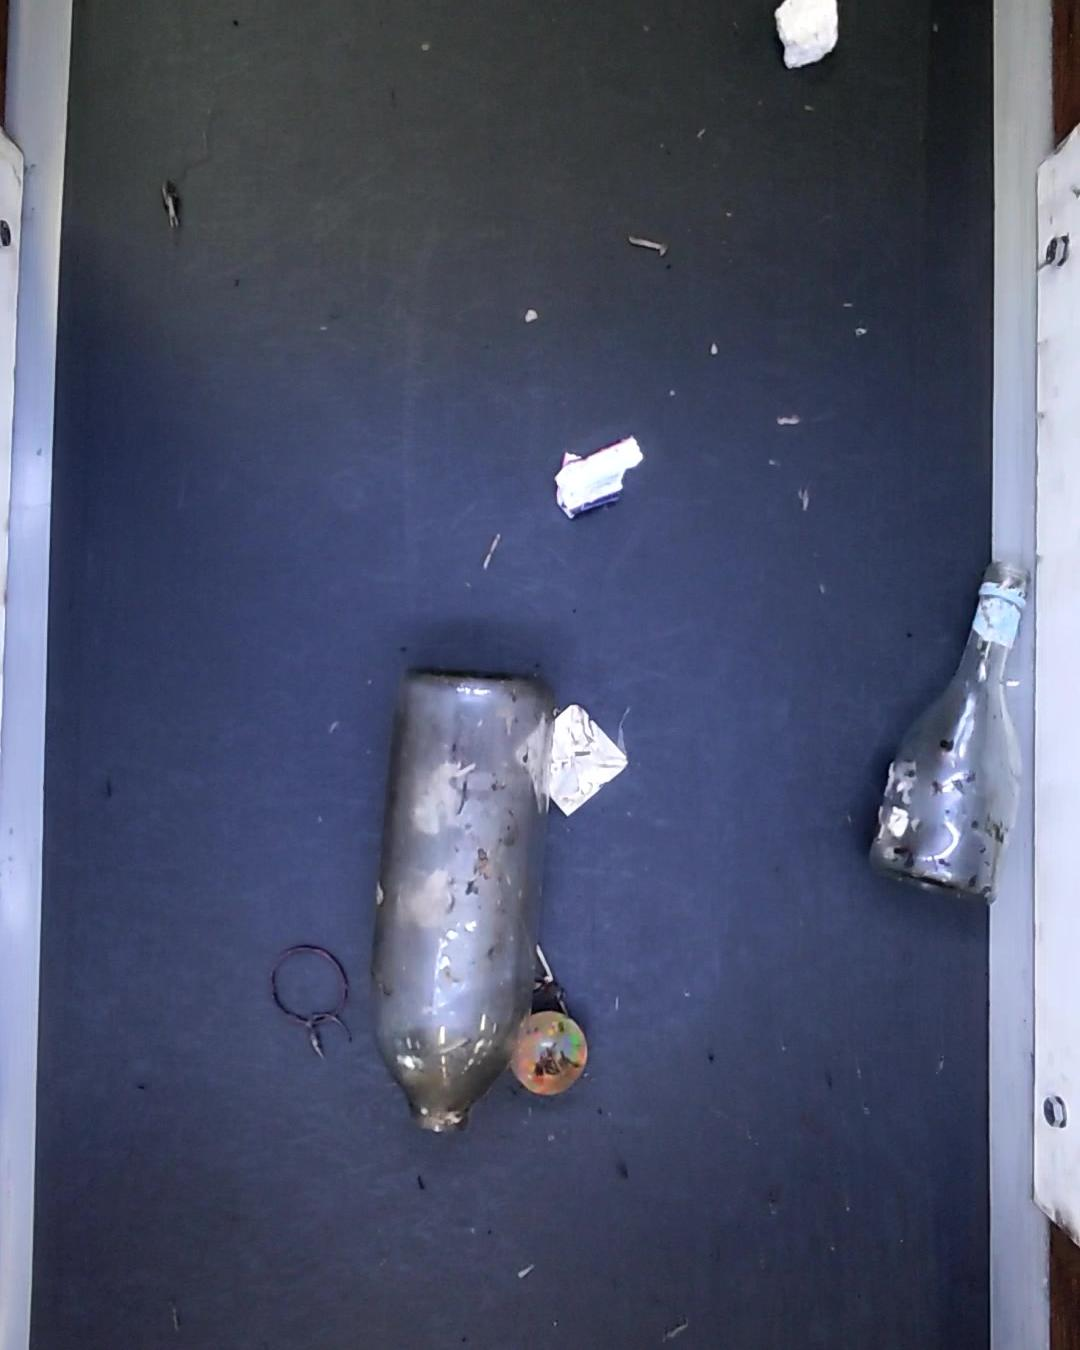Plastic folies of stukken daarvan 2.5- 50 cm: (519, 699, 631, 816)
Snoep snack en chips verpakkingen: (553, 434, 647, 519)
